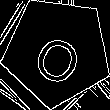O_NE: (27, 19, 87, 84)
